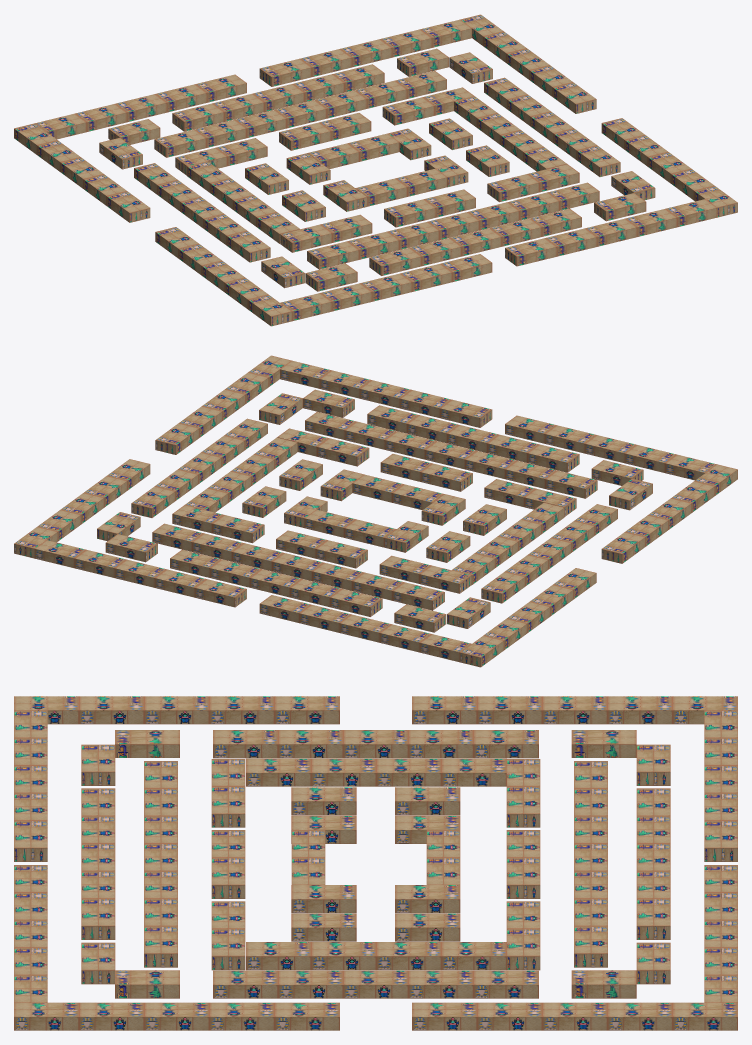
Rendered from LECOMOPT.obj.
3 views of the same model, one above another, from view 1: azimuth 30°, elevation 25°; view 2: azimuth 150°, elevation 25°; view 3: azimuth 270°, elevation 25° (orthographic). The views are drawn at different scales.
Visible parts, largest first — view 1: Box060, Box027, Box020, Box080, Box078, Box075, Box081, Box076, Box082, Box047, Box070, Box077 (+28 smaller); view 2: Box027, Box060, Box020, Box075, Box078, Box080, Box076, Box081, Box047, Box077, Box070, Box082 (+28 smaller); view 3: Box047, Box070, Box079, Box083, Box077, Box082, Box039, Box062, Box027, Box060, Box020, Box075 (+28 smaller).
Part boxes in pixels (x1,y1,x2,y2): Box060: [307, 182, 599, 269]; Box027: [154, 71, 446, 157]; Box020: [172, 64, 384, 131]; Box080: [505, 199, 717, 266]; Box078: [259, 19, 471, 86]; Box075: [369, 208, 581, 275]; Box081: [280, 254, 492, 321]; Box076: [35, 74, 246, 139]; Box082: [155, 227, 291, 326]; Box047: [484, 77, 620, 176]; Box070: [134, 163, 270, 262]; Box077: [14, 123, 150, 222]; Box027: [152, 523, 444, 610]; Box060: [305, 412, 597, 498]; Box020: [170, 549, 382, 616]; Box075: [367, 405, 579, 472]; Box078: [34, 540, 246, 607]; Box080: [280, 360, 492, 427]; Box076: [259, 595, 471, 662]; Box081: [505, 415, 716, 480]; Box047: [131, 418, 267, 517]; Box077: [460, 568, 596, 667]; Box070: [481, 504, 617, 603]; Box082: [601, 464, 737, 563]; Box047: [213, 970, 538, 998]; Box070: [213, 730, 538, 758]; Box079: [412, 1002, 737, 1030]; Box083: [14, 1002, 339, 1030]; Box077: [412, 696, 737, 724]; Box082: [14, 696, 339, 724]; Box039: [246, 942, 506, 970]; Box062: [246, 758, 506, 786]; Box027: [574, 761, 607, 967]; Box060: [144, 761, 177, 967]; Box020: [636, 788, 670, 939]; Box075: [81, 788, 115, 939].
Size of what is drawn, in the model's own units: 98.99 by 2 by 94.43.
Materials: 2 (2 with a texture image).
